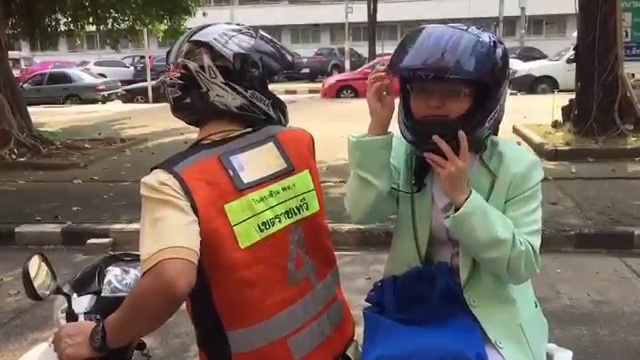helmet: (386, 14, 529, 162), (154, 13, 313, 134)
